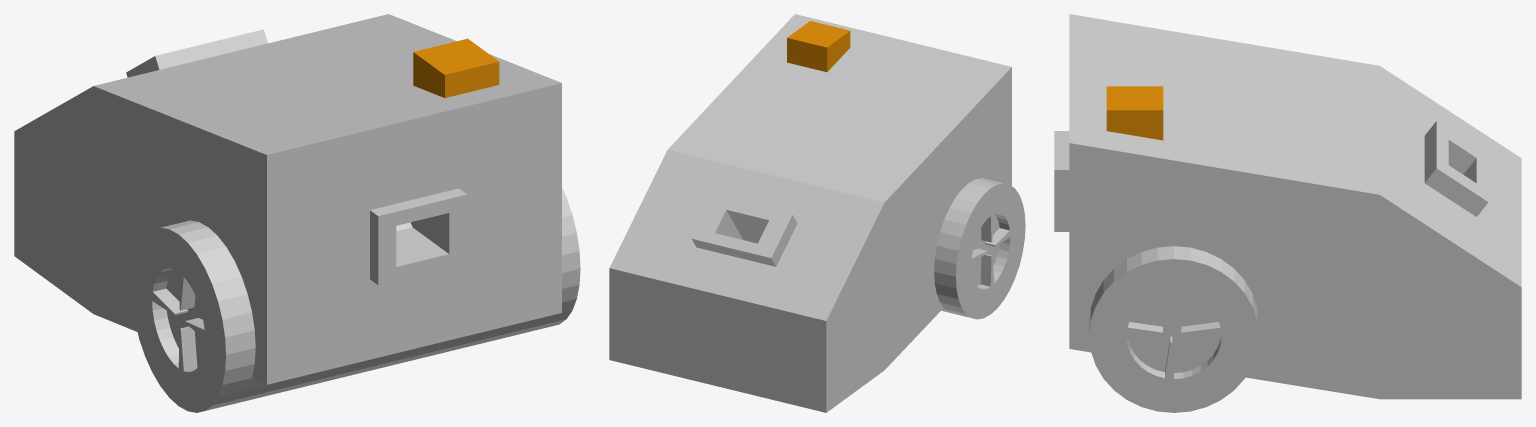
Rendered from sauger_prototype_v01_body.fbx.
The picture shows the model from 3 angles, left to right: view 1: azimuth 30°, elevation 25°; view 2: azimuth 150°, elevation 25°; view 3: azimuth 270°, elevation 25°; orthographic projection. The views are drawn at different scales.
Parts seen in each view (by area): view 1: body, wheel, button; view 2: body, wheel, button; view 3: body, wheel, button.
Boxes of the visible parts, x1,y1,x2,y2 form: body: [14, 14, 561, 384]; wheel: [131, 188, 580, 412]; button: [413, 38, 499, 97]; body: [609, 14, 1011, 412]; wheel: [934, 178, 1025, 319]; button: [787, 21, 850, 72]; body: [1054, 14, 1521, 399]; wheel: [1089, 246, 1258, 412]; button: [1106, 86, 1163, 140].
Bounding box in the file's own units: 0.3243 × 0.2648 × 0.4131.
